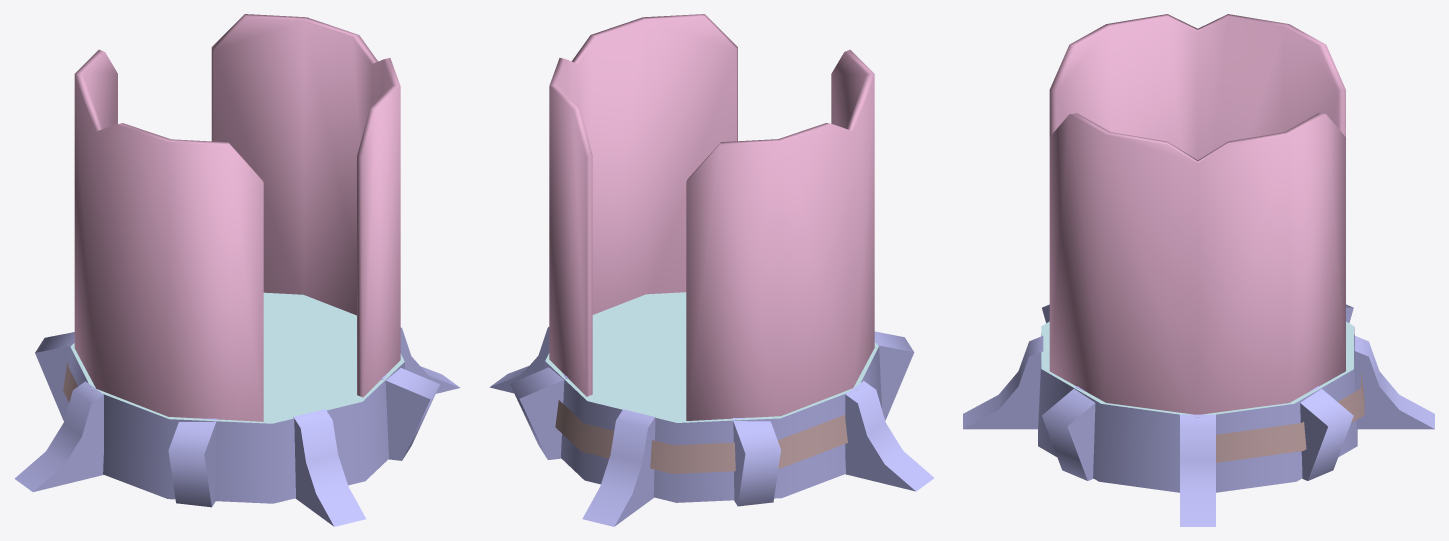
The picture shows the model from 3 angles, left to right: view 1: azimuth 30°, elevation 25°; view 2: azimuth 150°, elevation 25°; view 3: azimuth 270°, elevation 25°; orthographic projection. The views are drawn at different scales.
Visible parts, largest first — view 1: Object30; view 2: Object30; view 3: Object30.
Part boxes in pixels (x1,y1,x2,y2): Object30: (14,14,460,526); Object30: (489,14,934,526); Object30: (963,14,1434,526).
Bounding box in the file's own units: 310 × 245 × 303.
